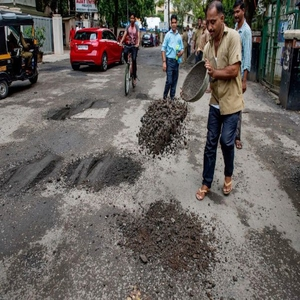pothole: (51, 100, 111, 122)
